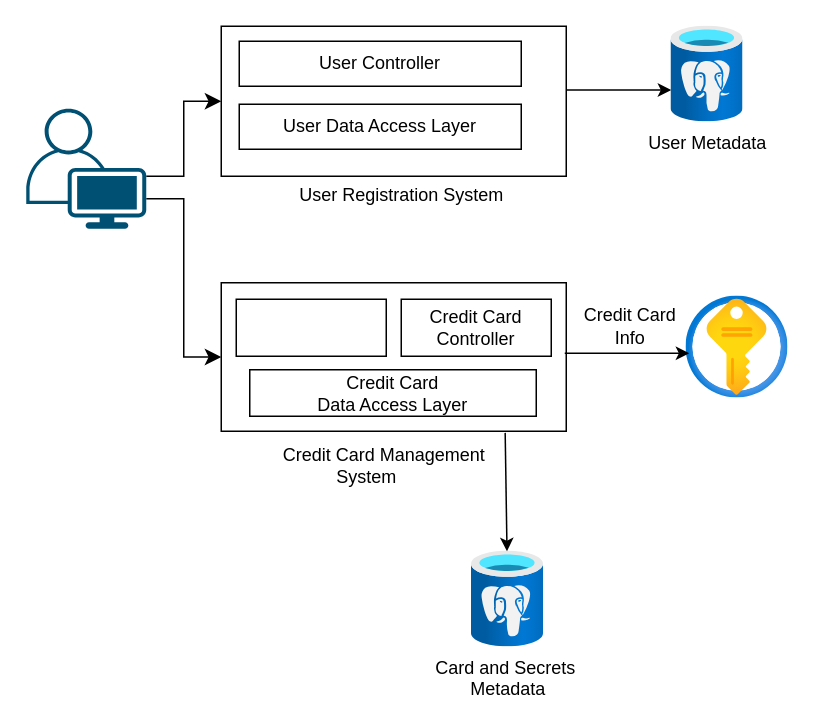
The diagram is 813 pixels wide and 728 high, and some of its shapes have lost their labels. The centre of each missing label's shape, as x and y in pixels:
"AKV Secret Handler" goes at point 310,327.
"Client" goes at point 86,168.
"Key Vault" goes at point 737,347.
